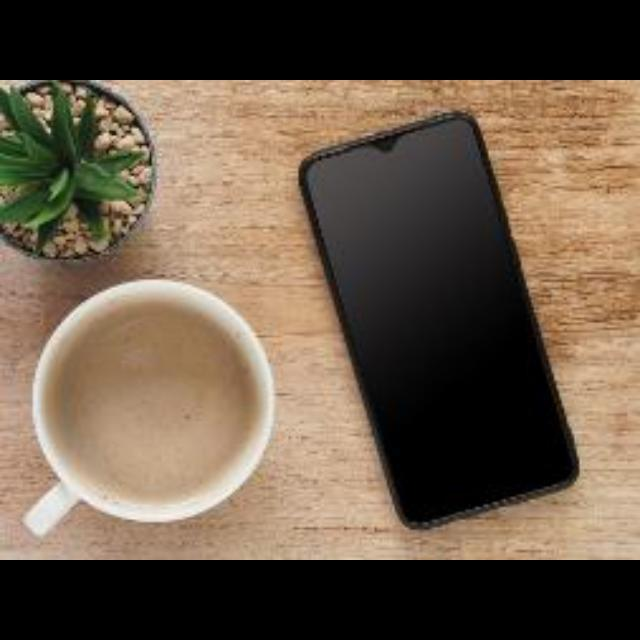Phone: (301, 111, 579, 528)
